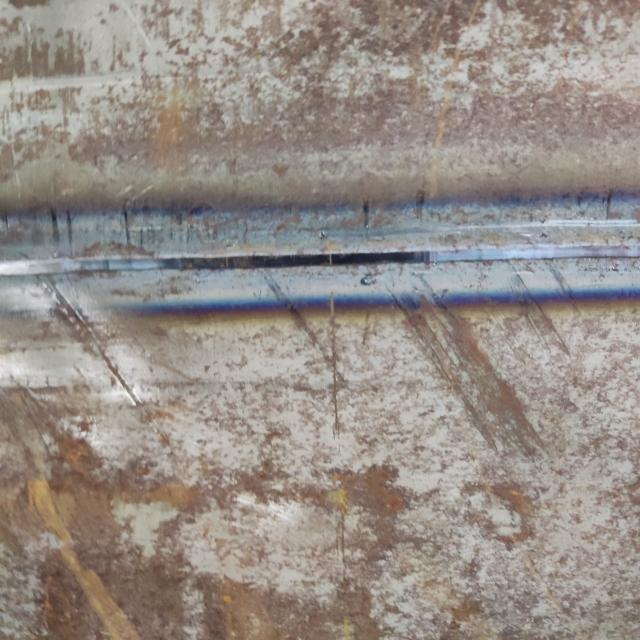seam: (0, 185, 640, 337)
